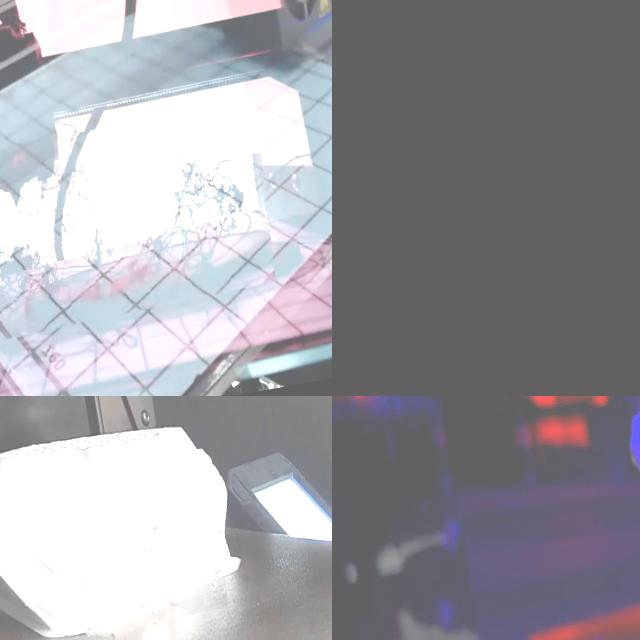spaghetti: (0, 100, 289, 353), (57, 446, 239, 636)
